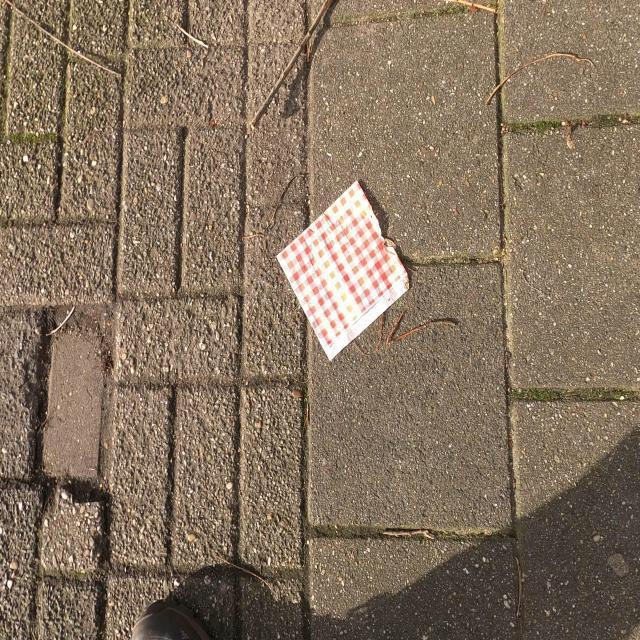Paper: (274, 178, 410, 362)
